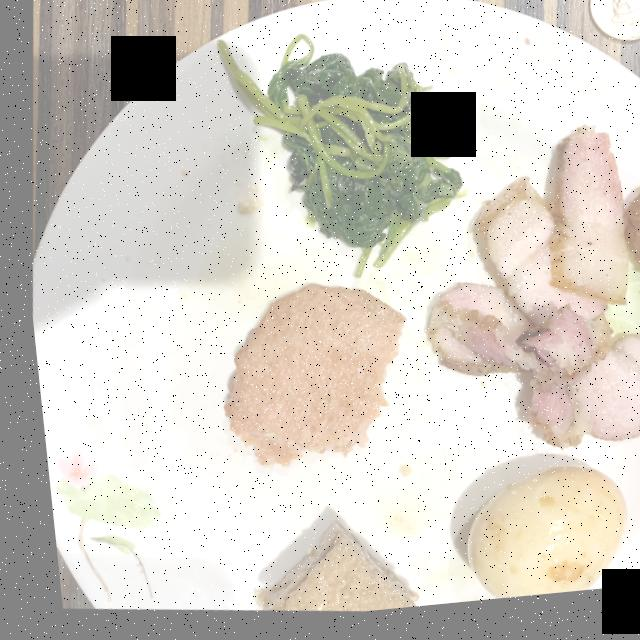Spam: (213, 289, 396, 470)
coin: (588, 0, 640, 53)
egg tofu: (241, 527, 404, 617)
grilled pork: (419, 137, 640, 457)
soy egg: (454, 476, 613, 607)
sweet potato leaves: (216, 40, 457, 278)
